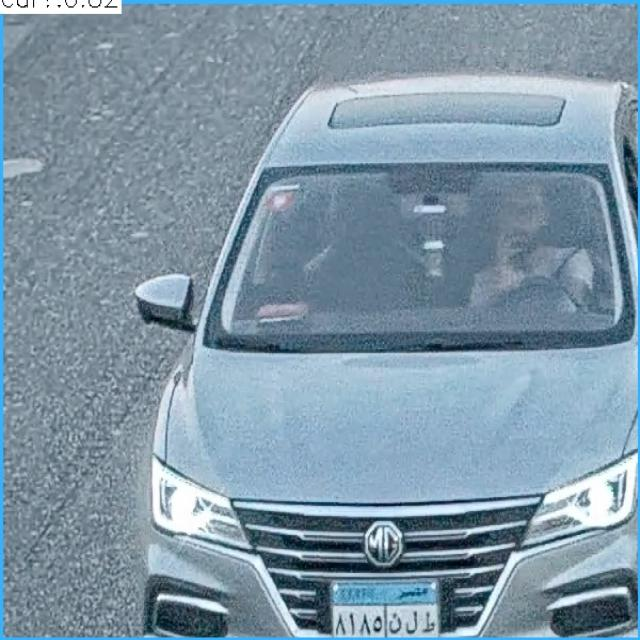windshield: (217, 167, 627, 340)
